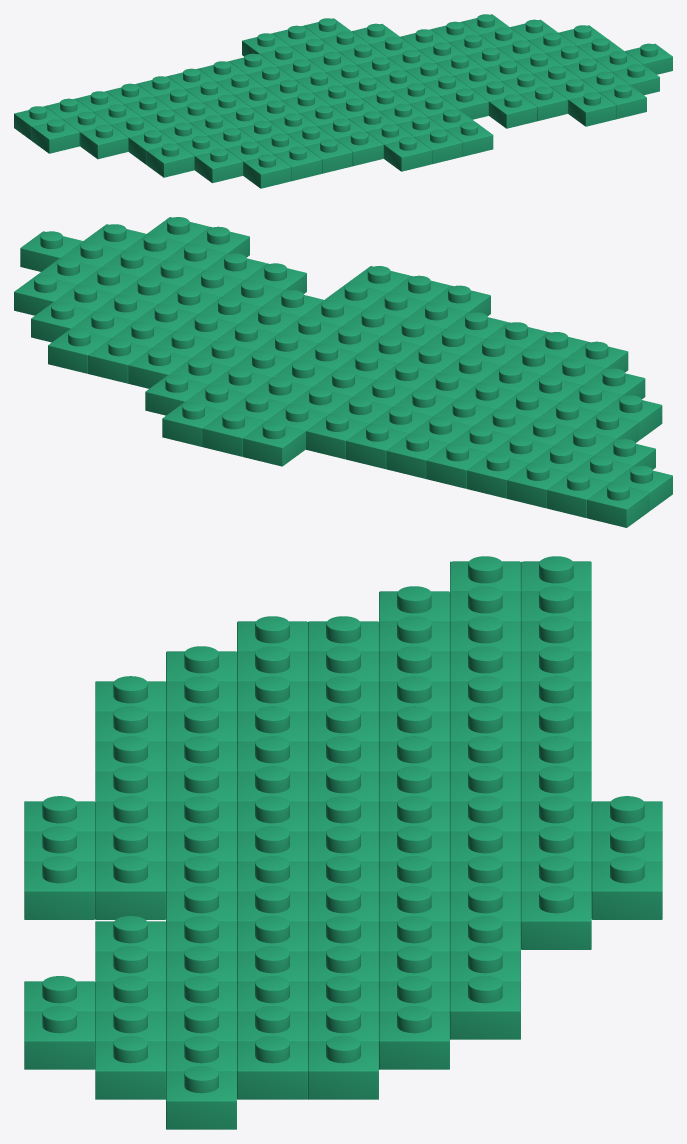
File: Egypt.fbx
The picture shows the model from 3 angles, top to bottom: view 1: azimuth 30°, elevation 25°; view 2: azimuth 150°, elevation 25°; view 3: azimuth 270°, elevation 25°; orthographic projection. The views are drawn at different scales.
Visible parts, largest first — view 1: Cube_100; view 2: Cube_100; view 3: Cube_100.
Part boxes in pixels (left/top/right/bottom): Cube_100: left=14, top=14, right=672, bottom=188; Cube_100: left=14, top=217, right=672, bottom=527; Cube_100: left=24, top=556, right=662, bottom=1129.
Bounding box in the file's own units: 1800 × 65.03 × 900.
